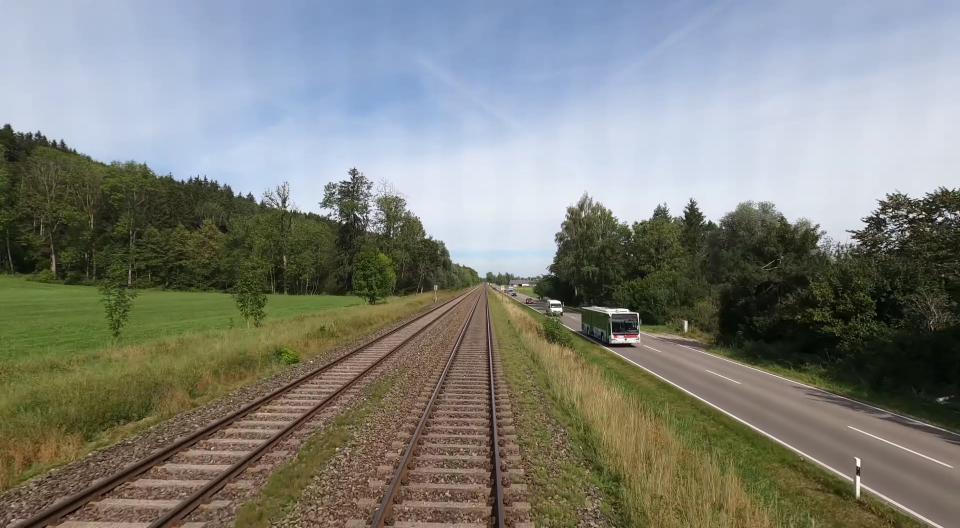Plant: (494, 298, 590, 528), (234, 404, 373, 528), (372, 379, 390, 400)
